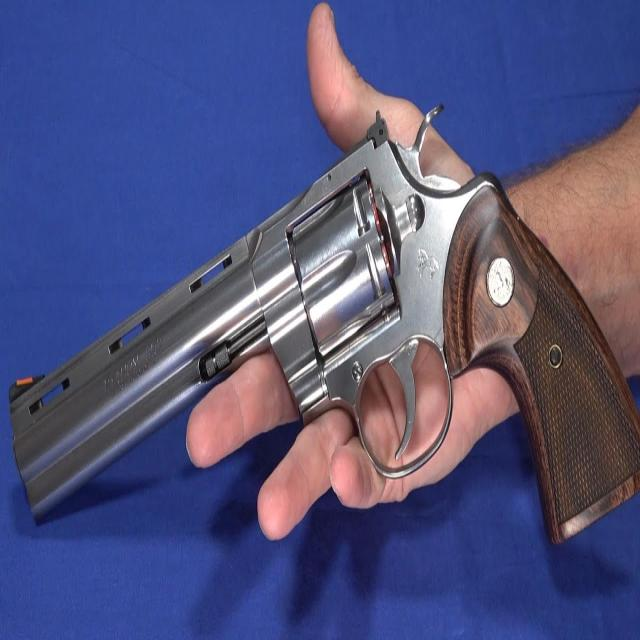handgun: (11, 87, 640, 559)
